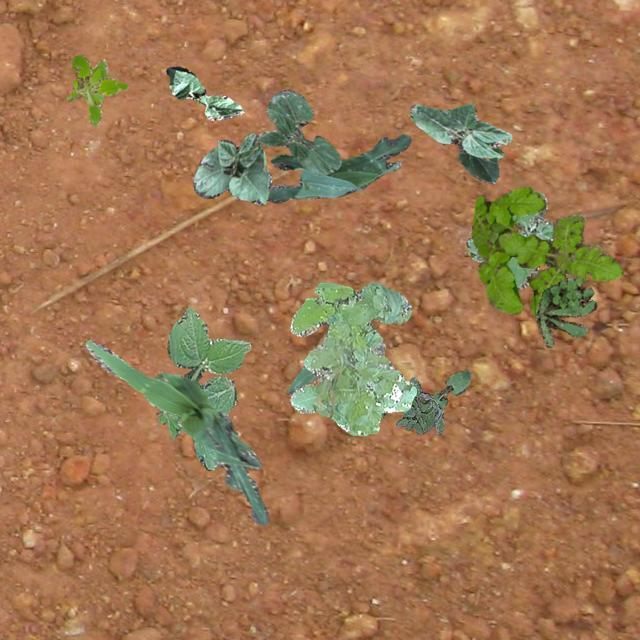crop: (85, 338, 267, 524), (266, 134, 410, 202), (410, 102, 510, 182), (256, 90, 340, 174), (192, 132, 270, 204), (166, 66, 243, 120), (432, 368, 469, 408), (286, 364, 316, 394)
weed: (471, 186, 622, 316), (290, 280, 416, 434), (157, 306, 250, 470), (466, 192, 554, 288), (66, 54, 128, 124), (534, 276, 596, 346), (394, 376, 442, 434)
